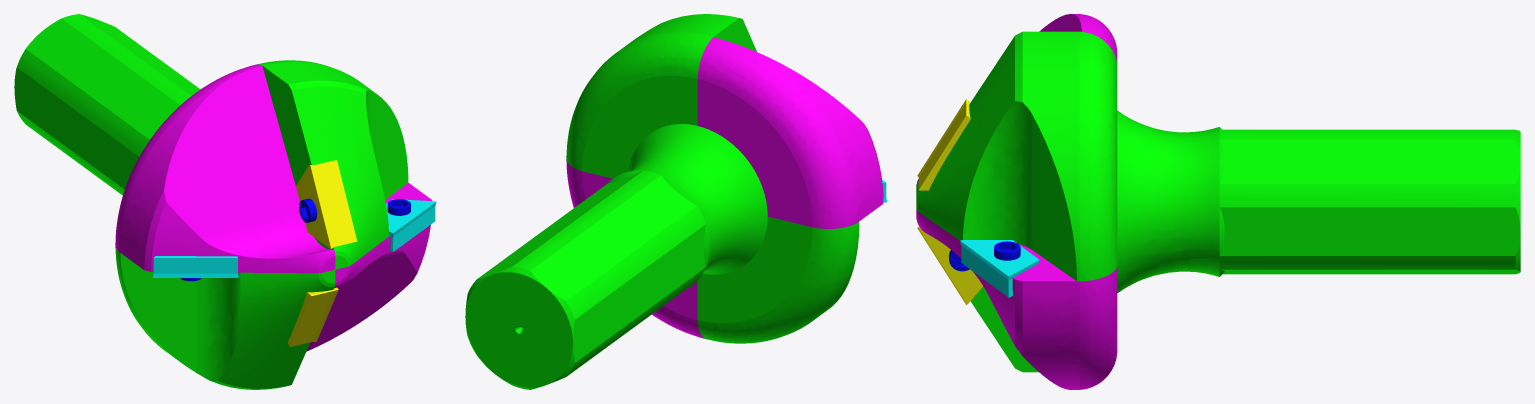
File: Mlling_3d.glb
The picture shows the model from 3 angles, left to right: view 1: azimuth 30°, elevation 25°; view 2: azimuth 150°, elevation 25°; view 3: azimuth 270°, elevation 25°; orthographic projection. The views are drawn at different scales.
Parts seen in each view (by area): view 1: 64_node, 7C_node, 80_node, 99_node, 70_node, C8_node, B8_node, BB_node, AF_node, B5_node; view 2: 7C_node, 64_node, 99_node, 80_node, 70_node; view 3: 7C_node, 99_node, 70_node, AF_node, C8_node, 80_node, BB_node, 64_node.
Part boxes in pixels (left/top/right/bottom): 64_node: left=115, top=64, right=335, bottom=273; 7C_node: left=14, top=14, right=200, bottom=195; 80_node: left=115, top=245, right=335, bottom=389; 99_node: left=258, top=60, right=408, bottom=269; 70_node: left=306, top=182, right=432, bottom=351; C8_node: left=296, top=160, right=357, bottom=248; B8_node: left=153, top=256, right=238, bottom=277; BB_node: left=288, top=287, right=338, bottom=346; AF_node: left=386, top=199, right=436, bottom=251; B5_node: left=299, top=198, right=317, bottom=222; 7C_node: left=465, top=124, right=767, bottom=389; 64_node: left=697, top=37, right=883, bottom=228; 99_node: left=566, top=14, right=756, bottom=178; 80_node: left=697, top=216, right=859, bottom=343; 70_node: left=566, top=159, right=704, bottom=338; 7C_node: left=1117, top=110, right=1520, bottom=293; 99_node: left=916, top=31, right=1117, bottom=281; 70_node: left=916, top=209, right=1117, bottom=389; AF_node: left=960, top=240, right=1039, bottom=297; C8_node: left=917, top=99, right=970, bottom=190; 80_node: left=970, top=286, right=1038, bottom=372; BB_node: left=917, top=226, right=982, bottom=304; 64_node: left=916, top=14, right=1117, bottom=185.
Bounding box in the file's own units: 75 × 75 × 120.
